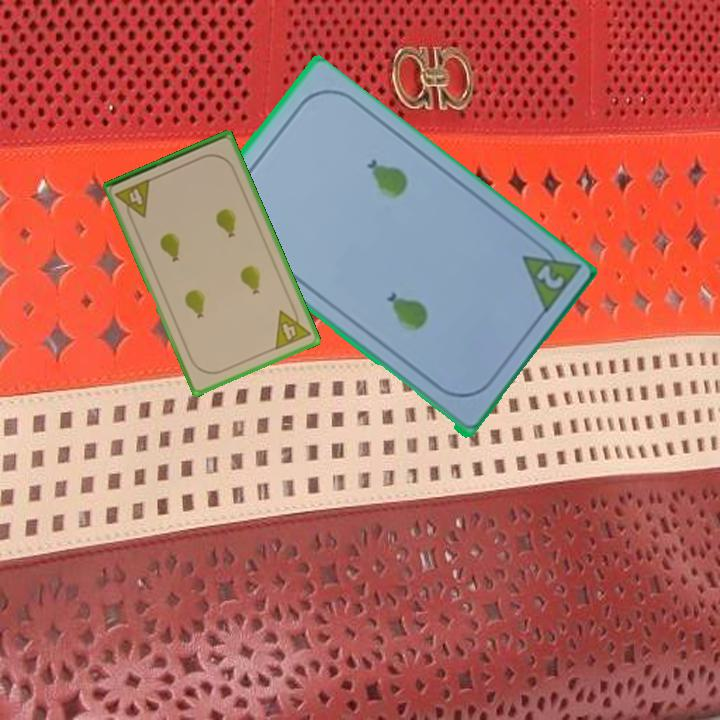2p: (517, 236, 582, 319)
4p: (271, 302, 314, 353), (112, 175, 154, 224)
